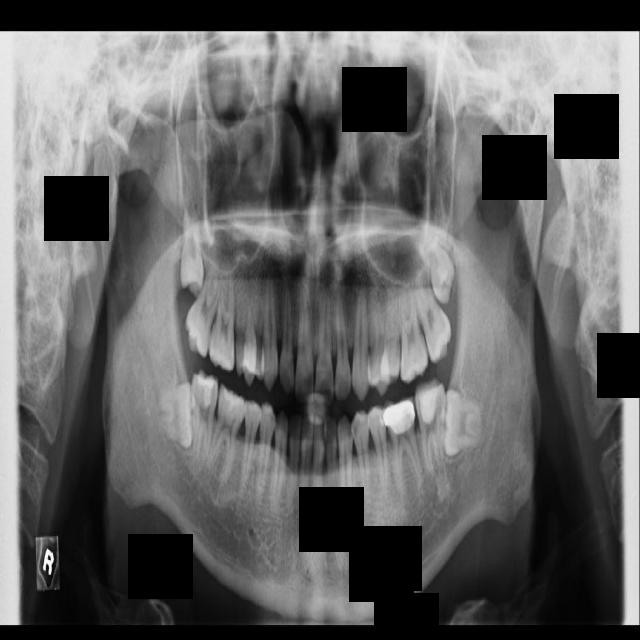3M ESPE Implant: (180, 183, 204, 298)
52: (204, 378, 260, 435), (410, 375, 451, 421), (380, 396, 420, 442), (187, 369, 222, 414)
73: (577, 590, 585, 610)
BioHorizons Implant: (404, 256, 459, 365)
BioLife Implant: (410, 209, 464, 306)
Biomet 3i Implant: (439, 390, 483, 459)
Blue Sky Bio Implant: (412, 376, 453, 477)
Caries: (178, 254, 227, 358)
Implant: (191, 369, 219, 463)
Keystone Dental Implant: (157, 381, 195, 450)
